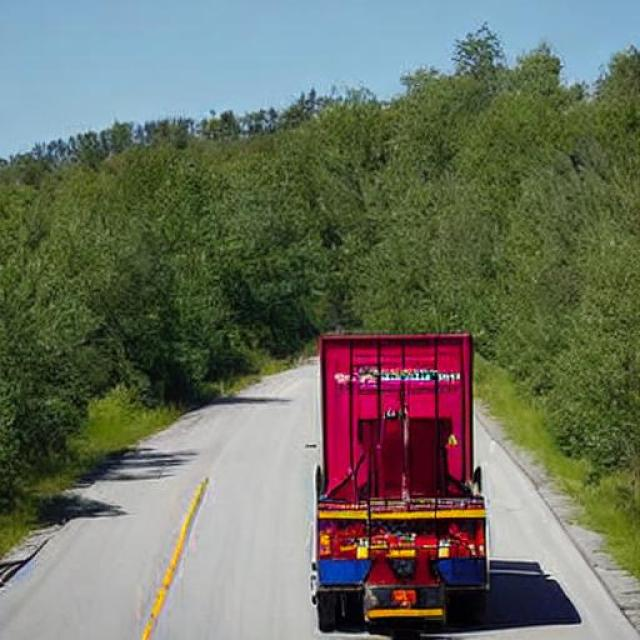truck: (64, 7, 554, 640)
